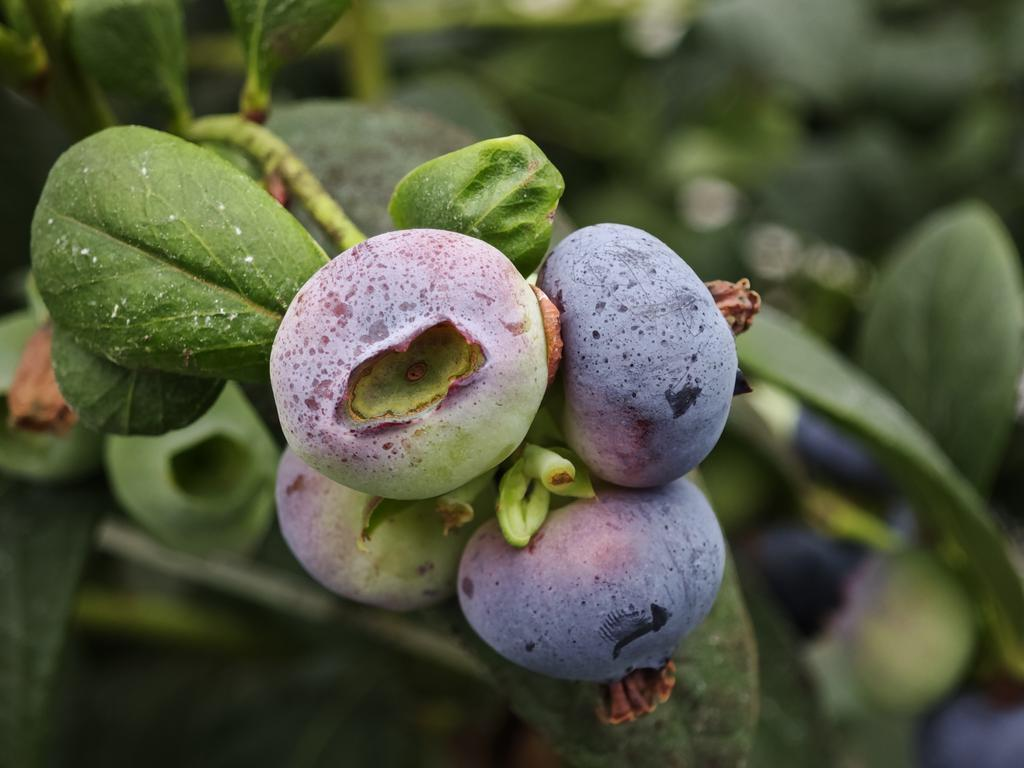Semi-RipeBlueBerry: (271, 232, 546, 493), (466, 497, 746, 716), (558, 223, 742, 483)
